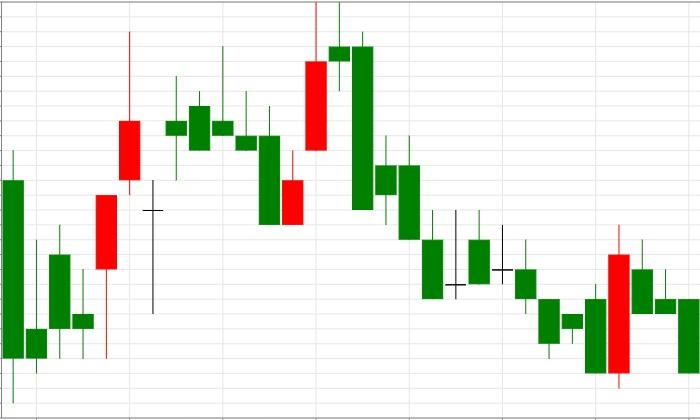bullish_engulfing_rise: (328, 2, 631, 389)
evening_star_fall: (258, 3, 374, 226)
shooting_star_fall: (2, 31, 234, 404)
